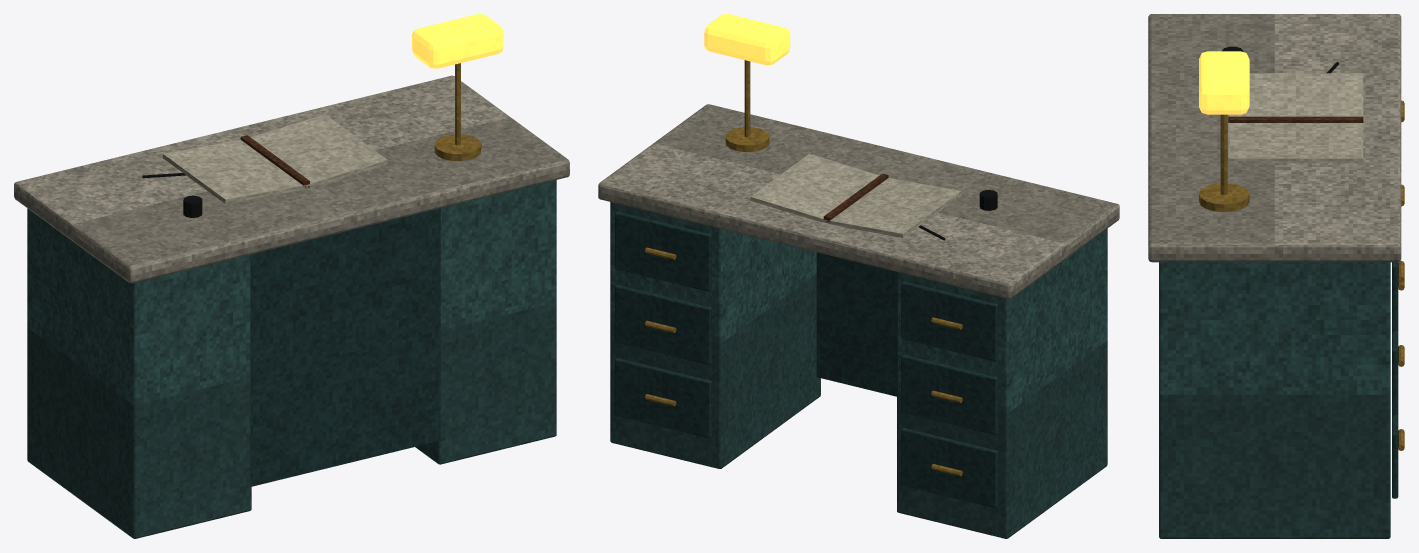
File: save_desk.glb
The picture shows the model from 3 angles, left to right: view 1: azimuth 30°, elevation 25°; view 2: azimuth 150°, elevation 25°; view 3: azimuth 270°, elevation 25°; orthographic projection. The views are drawn at different scales.
Visible parts, largest first — view 1: save_desk; view 2: save_desk; view 3: save_desk.
Part boxes in pixels (bbox=[...]): save_desk: bbox=[14, 14, 569, 538]; save_desk: bbox=[598, 14, 1119, 538]; save_desk: bbox=[1148, 14, 1404, 538].
Bounding box in the file's own units: 1.3 × 1.14 × 0.608.
Materials: 8 (8 with a texture image).
